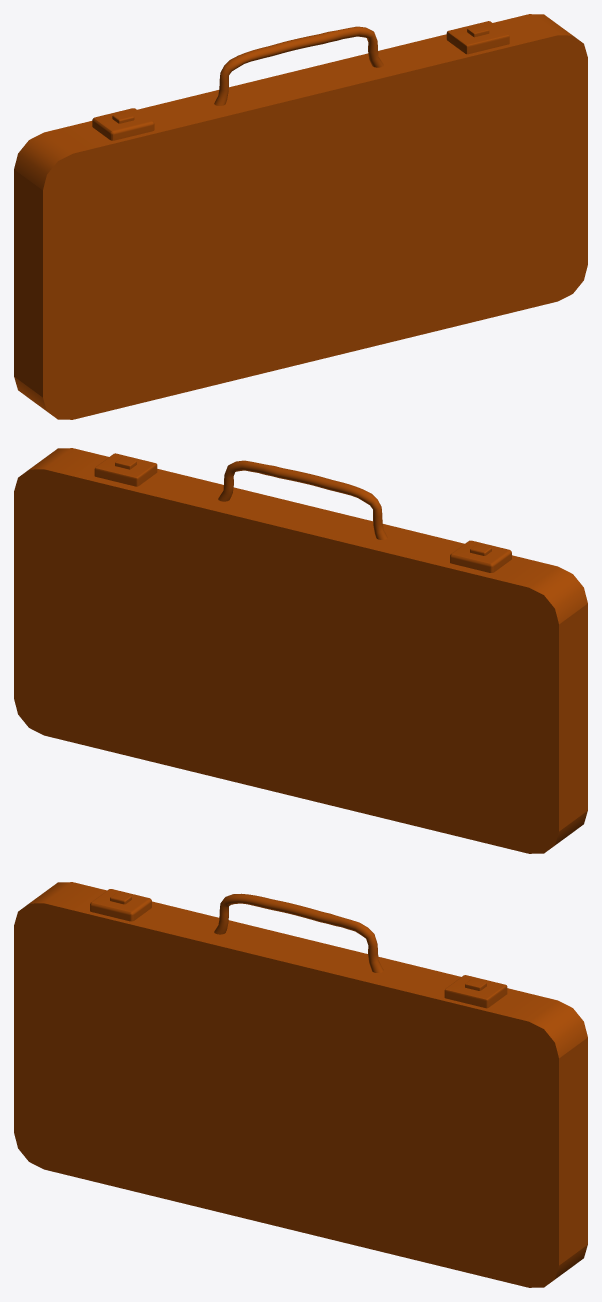
File: New_Toolbox.fbx
3 renders of one model, top to bottom at view 1: azimuth 30°, elevation 25°; view 2: azimuth 150°, elevation 25°; view 3: azimuth 330°, elevation 25°, orthographic.
Visible parts, largest first — view 1: pCube6; view 2: pCube6; view 3: pCube6.
Part boxes in pixels (x1,y1,x2,y2): pCube6: (14,14,587,419); pCube6: (14,448,587,853); pCube6: (14,882,587,1287).
Size of the model in its own units: 69.64 by 38.03 by 6.4.
